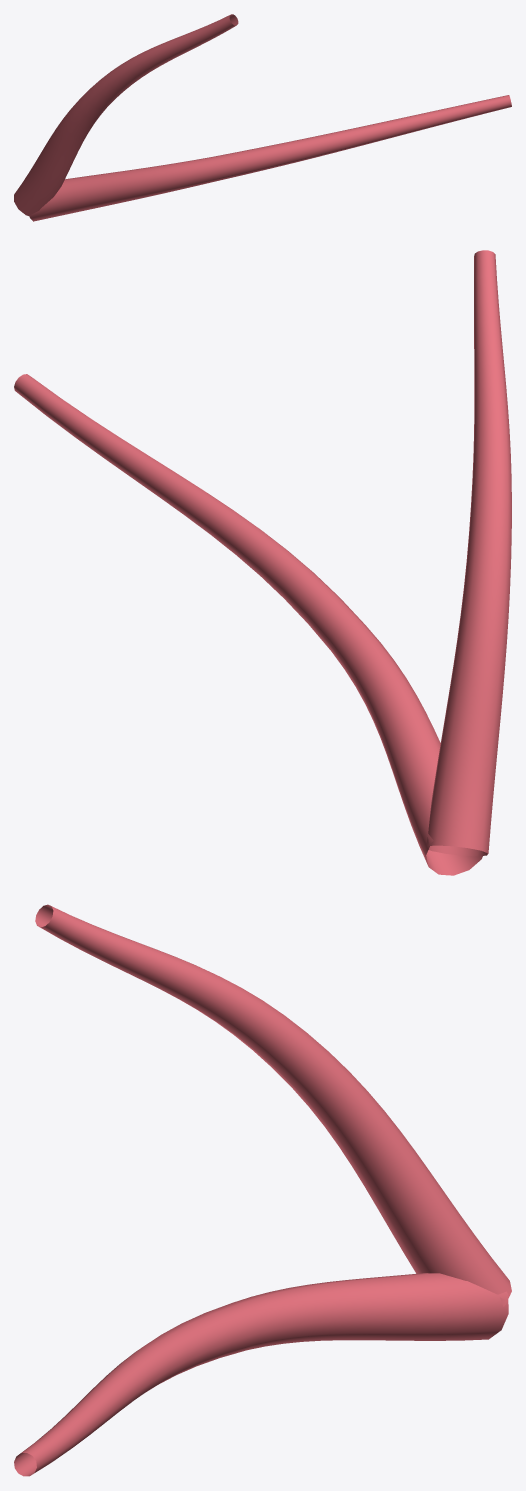
3 views of the same model, one above another, from view 1: azimuth 30°, elevation 25°; view 2: azimuth 150°, elevation 25°; view 3: azimuth 270°, elevation 25° (orthographic). The views are drawn at different scales.
Visible parts, largest first — view 1: ZA_5889b2ebeaf83d7e; view 2: ZA_5889b2ebeaf83d7e; view 3: ZA_5889b2ebeaf83d7e.
Part boxes in pixels (bbox=[...]): ZA_5889b2ebeaf83d7e: bbox=[14, 14, 511, 221]; ZA_5889b2ebeaf83d7e: bbox=[14, 250, 511, 875]; ZA_5889b2ebeaf83d7e: bbox=[14, 904, 511, 1476].
Size of the model in its own units: 0.00707 by 0.00462 by 0.00401.
